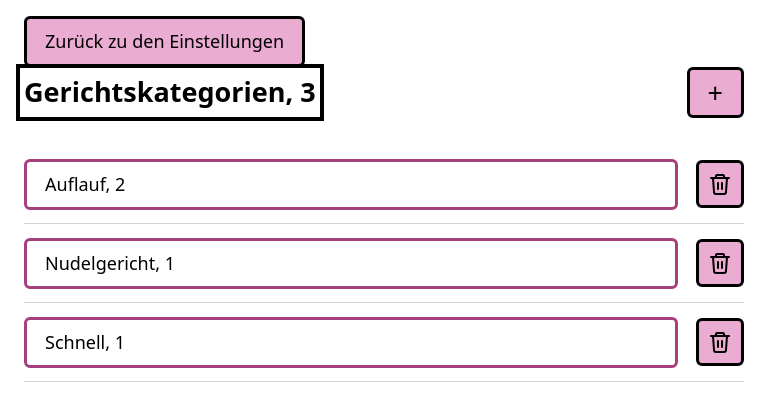
Scenario: CategoriesArea › returns to the list when the category disappears
The image size is (761, 399).
Click the button named "Löschen, Nudelgericht": coordinates (720, 263) [696,239,744,287]
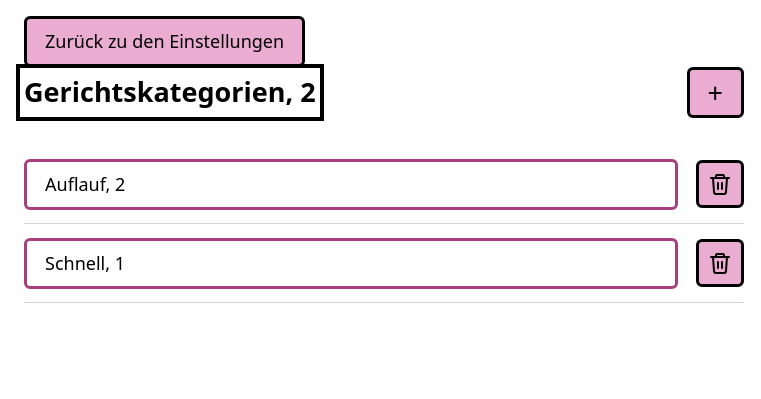
Result: the heading "Gerichtskategorien, 2" is shown at [24,72,316,113]
